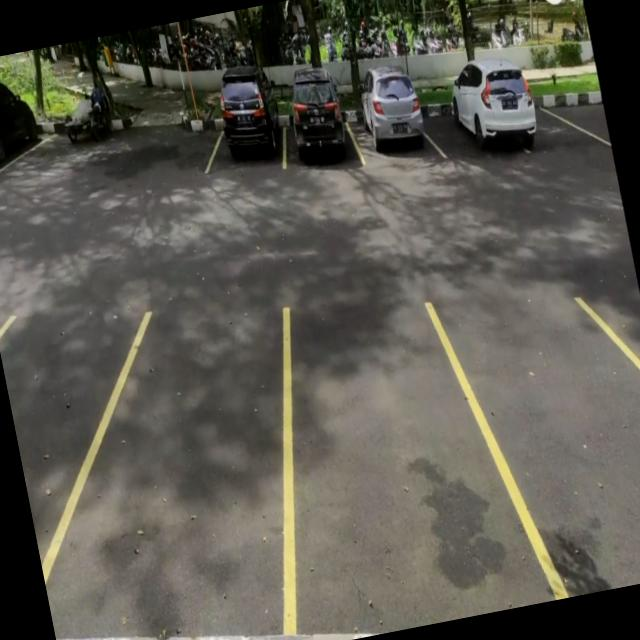car: (424, 66, 544, 166), (271, 72, 359, 177), (205, 77, 292, 179), (344, 74, 438, 166), (0, 76, 43, 180)
free: (235, 269, 545, 640), (15, 285, 331, 640), (462, 277, 640, 606), (568, 82, 612, 156)
